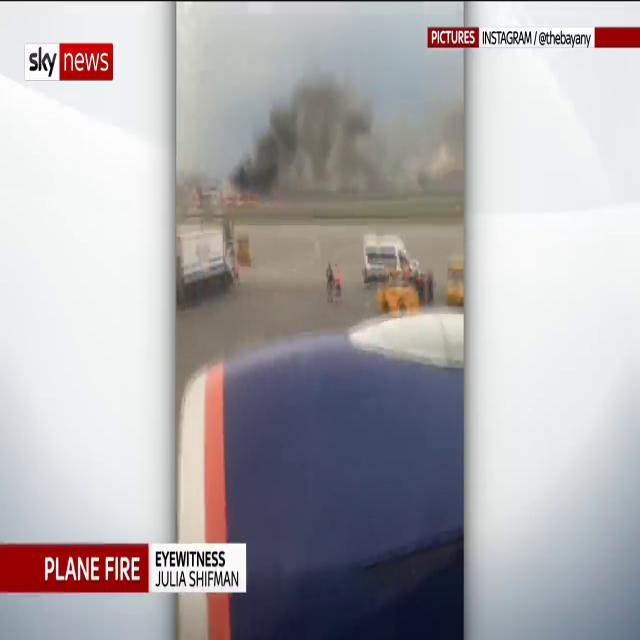Smoke: (229, 52, 461, 209)
